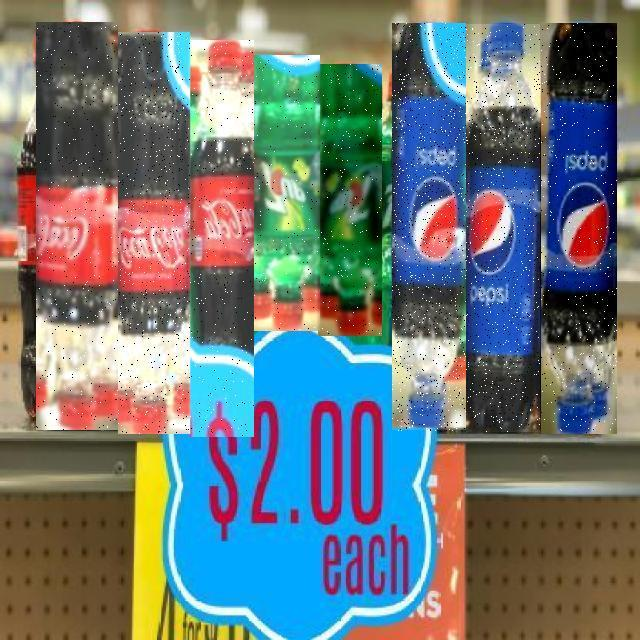Drinks: (36, 22, 118, 430), (541, 23, 617, 434), (466, 25, 540, 433), (392, 24, 466, 432), (118, 32, 190, 434), (189, 40, 254, 437), (254, 55, 320, 331), (318, 64, 382, 336)
